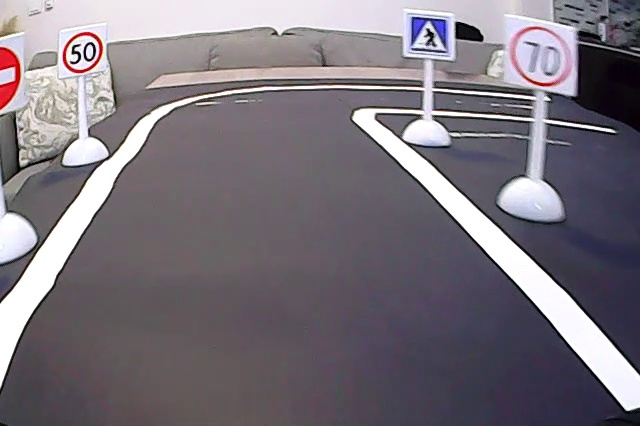pedestrian crossing: (405, 11, 454, 60)
speed limit 50: (60, 31, 107, 73)
speed limit 70: (507, 17, 578, 91)
